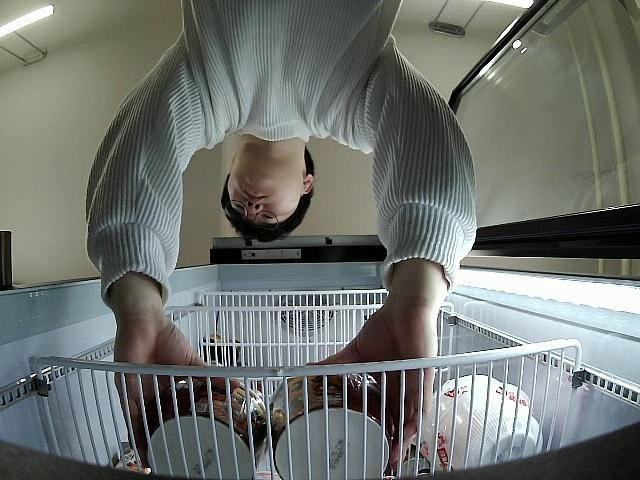05_nuguri_L: (272, 377, 395, 480), (148, 375, 268, 480)
